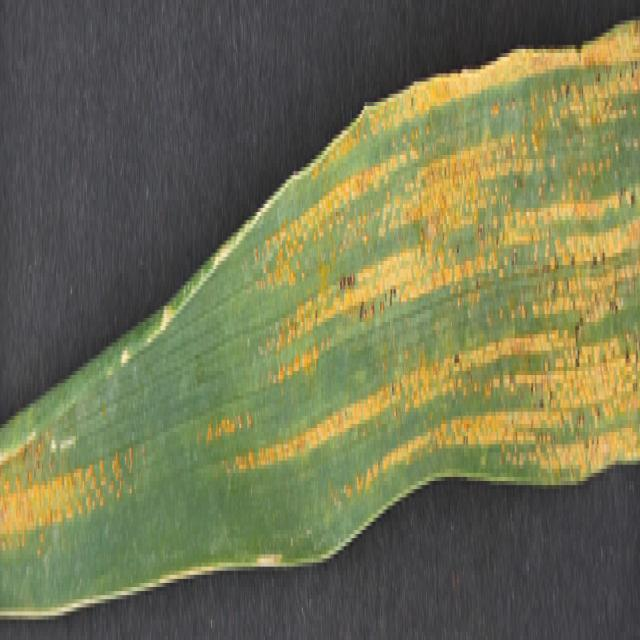leaf rust: (211, 32, 640, 574), (0, 395, 144, 591)
